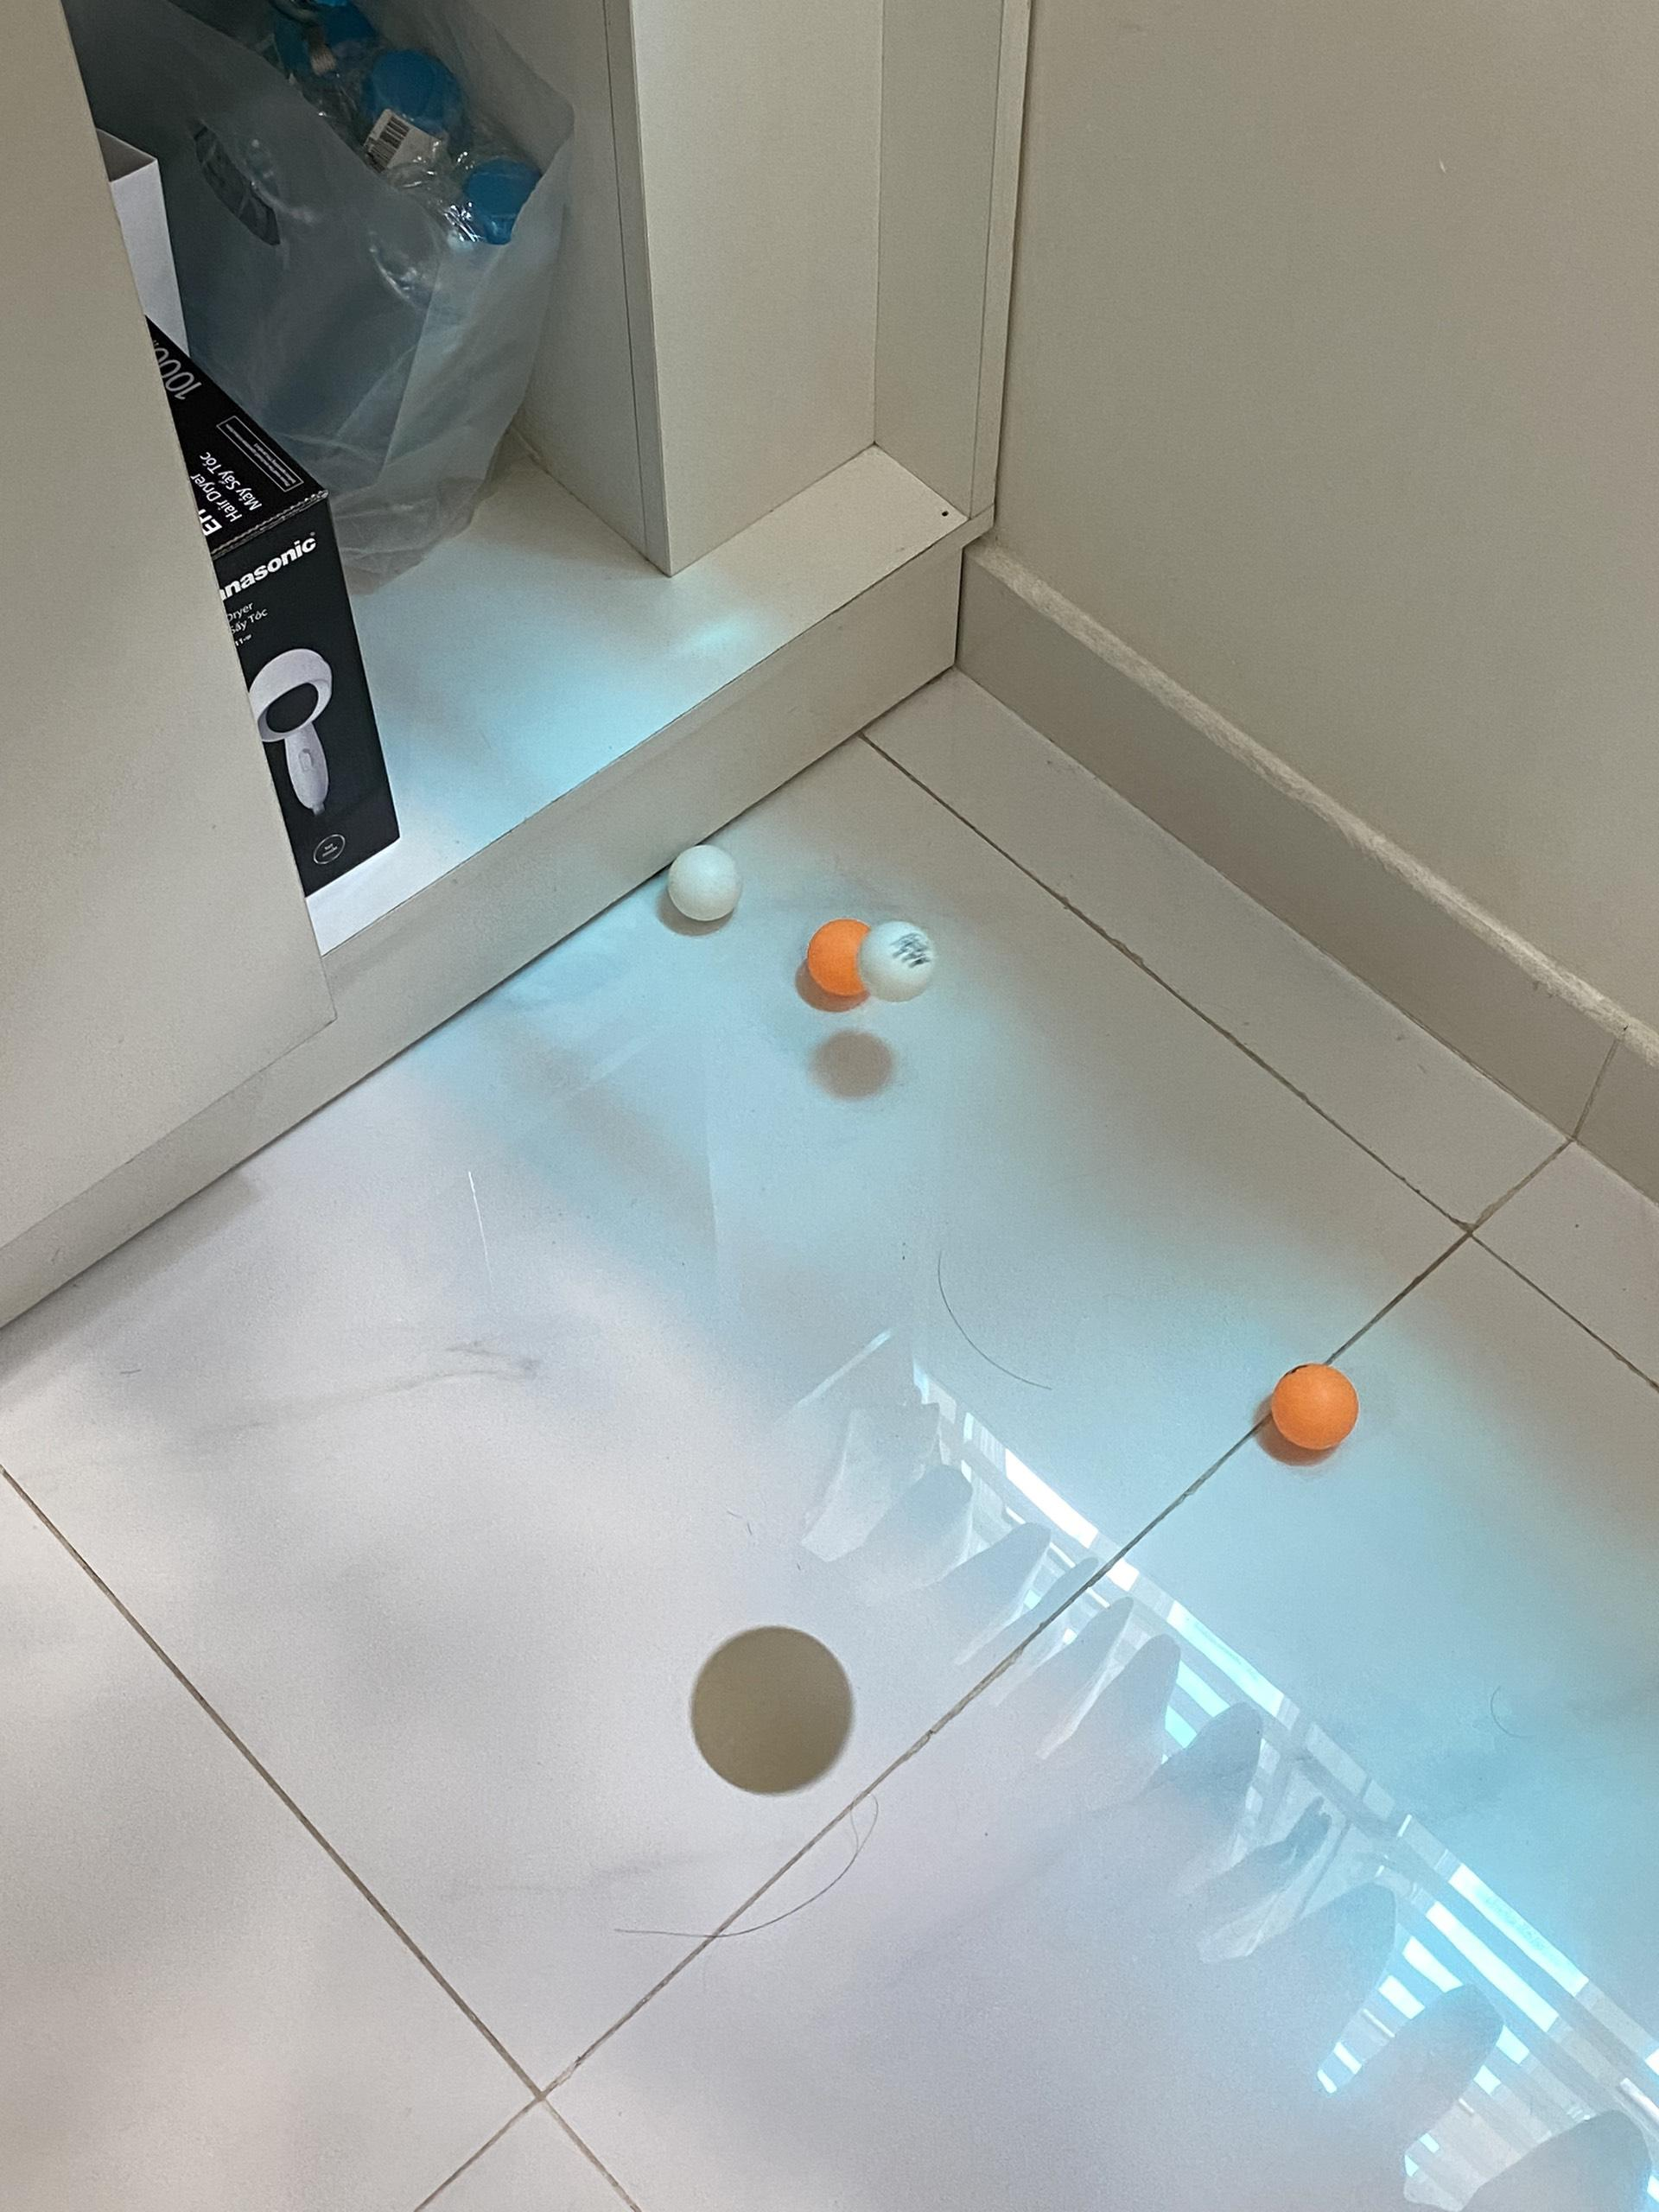oball: (697, 1625, 859, 1797), (1270, 1357, 1364, 1454), (809, 916, 887, 996), (864, 921, 939, 1000), (671, 845, 742, 925)
